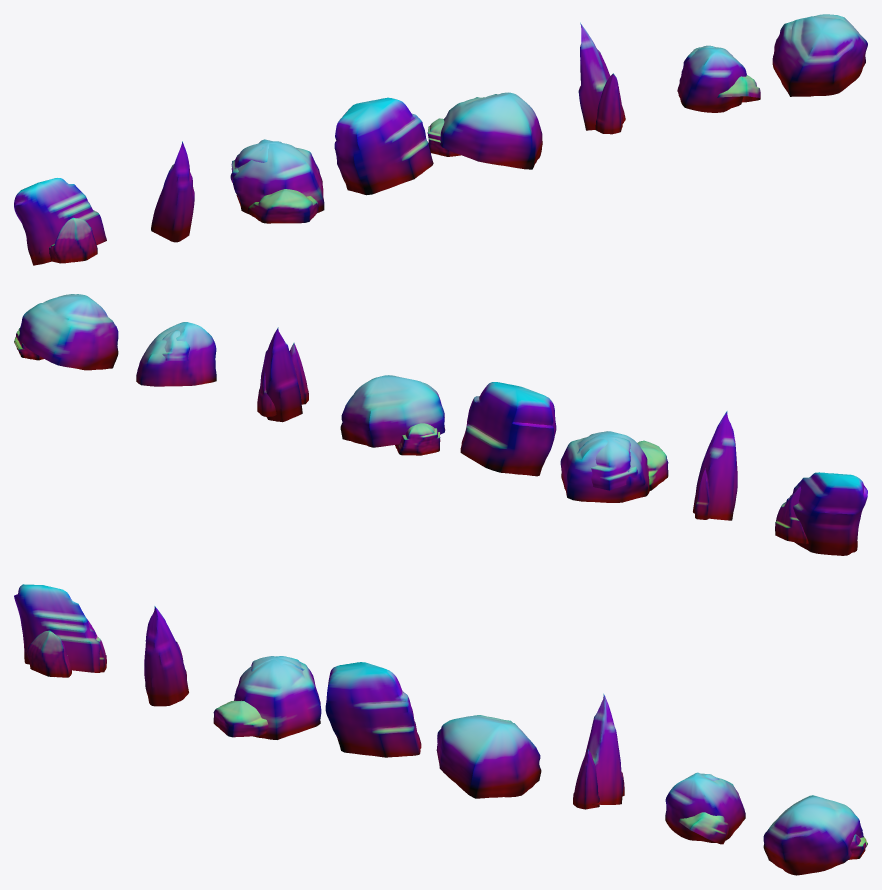
Rendered from rocks.glb.
The picture shows the model from 3 angles, top to bottom: view 1: azimuth 30°, elevation 25°; view 2: azimuth 150°, elevation 25°; view 3: azimuth 330°, elevation 25°; orthographic projection.
Parts seen in each view (by area): view 1: rock_3, rock_4, rock_2, rock_7, rock_0, rock_6, rock_5, rock_1; view 2: rock_3, rock_4, rock_2, rock_7, rock_0, rock_6, rock_1, rock_5; view 3: rock_3, rock_4, rock_2, rock_0, rock_7, rock_6, rock_5, rock_1.
Boxes of the visible parts, <box> form: rock_3: <box>334,97,433,195</box>; rock_4: <box>427,92,542,169</box>; rock_2: <box>230,139,324,223</box>; rock_7: <box>772,14,867,96</box>; rock_0: <box>14,178,106,265</box>; rock_6: <box>677,45,760,112</box>; rock_5: <box>578,22,625,134</box>; rock_1: <box>151,141,194,242</box>; rock_3: <box>460,382,556,476</box>; rock_4: <box>340,375,445,455</box>; rock_2: <box>560,431,668,502</box>; rock_7: <box>14,294,118,370</box>; rock_0: <box>775,472,867,555</box>; rock_6: <box>136,322,216,386</box>; rock_1: <box>693,411,737,520</box>; rock_5: <box>257,327,308,422</box>; rock_3: <box>325,662,421,757</box>; rock_4: <box>436,715,541,798</box>; rock_2: <box>213,656,321,739</box>; rock_0: <box>14,584,106,677</box>; rock_7: <box>763,795,867,875</box>; rock_6: <box>665,772,745,844</box>; rock_5: <box>573,693,624,809</box>; rock_1: <box>144,606,188,706</box>.
Bounding box in the file's own units: 126 × 15.12 × 16.16.
